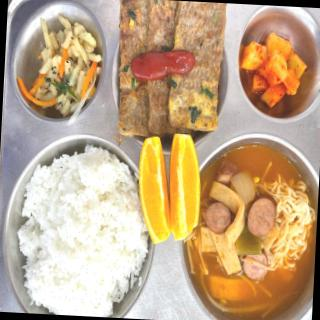Nasi: (15, 152, 138, 313)
